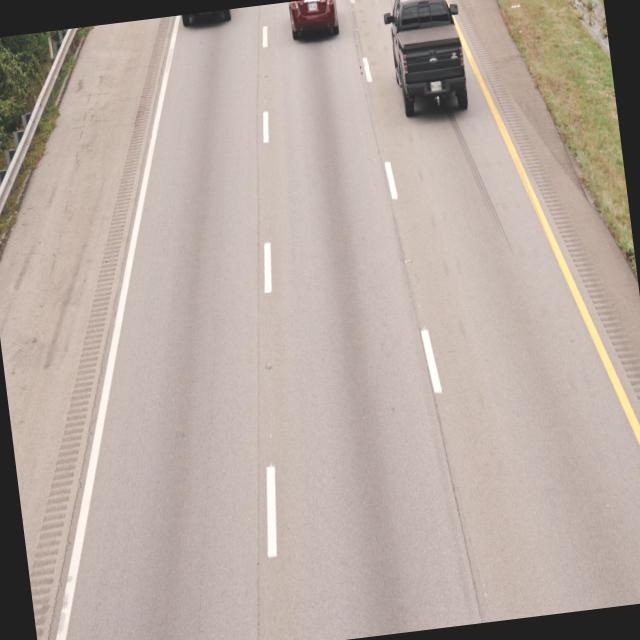Vehicle: (380, 0, 471, 122), (282, 0, 344, 48)
